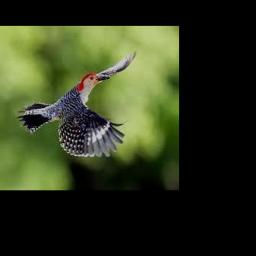Woodpecker: (18, 50, 137, 157)
